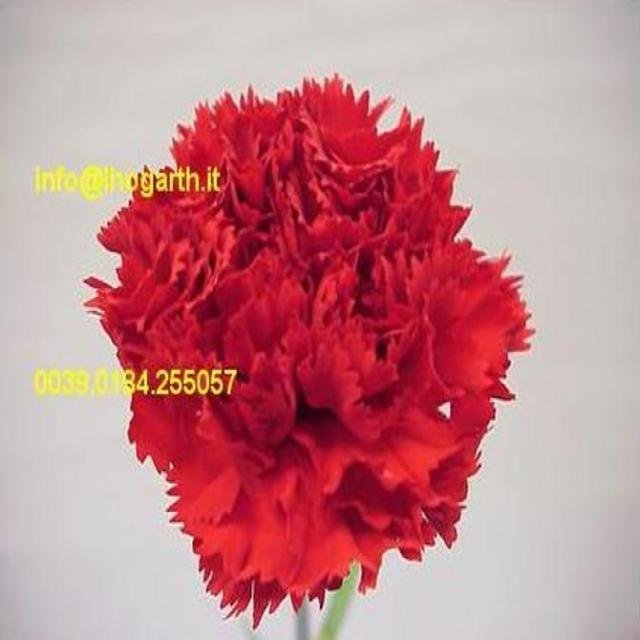carnation: (102, 79, 526, 617)
